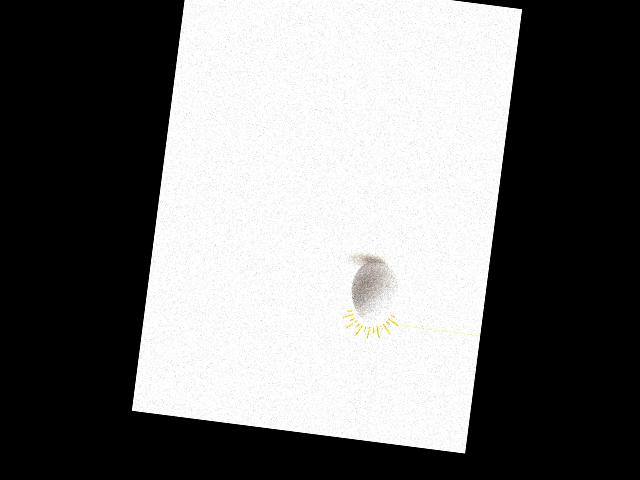egg: (348, 259, 401, 324)
